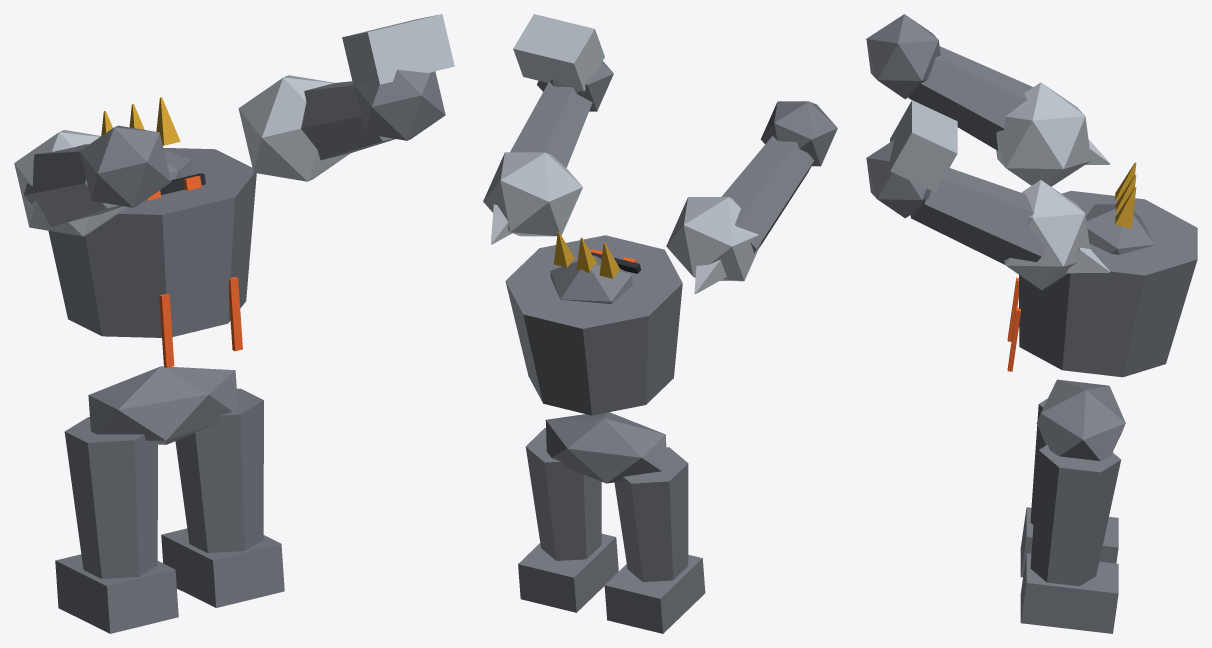
The model's file is npcpose_colossus_idle_05.glb.
3 views of the same model, side by side, from view 1: azimuth 30°, elevation 25°; view 2: azimuth 150°, elevation 25°; view 3: azimuth 270°, elevation 25° (orthographic). The views are drawn at different scales.
Parts seen in each view (by area): view 1: npcpose; view 2: npcpose; view 3: npcpose.
Boxes of the visible parts, box(x1,y1,x2,y2) form: npcpose: box(14, 14, 454, 633); npcpose: box(483, 14, 837, 633); npcpose: box(866, 14, 1197, 633).
Bounding box in the file's own units: 2.3 × 3.74 × 2.07.
